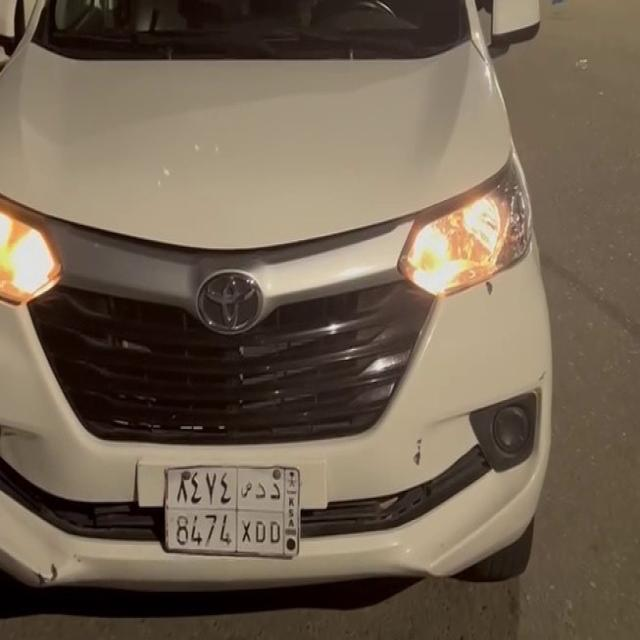Car-plate: (155, 451, 307, 565)
